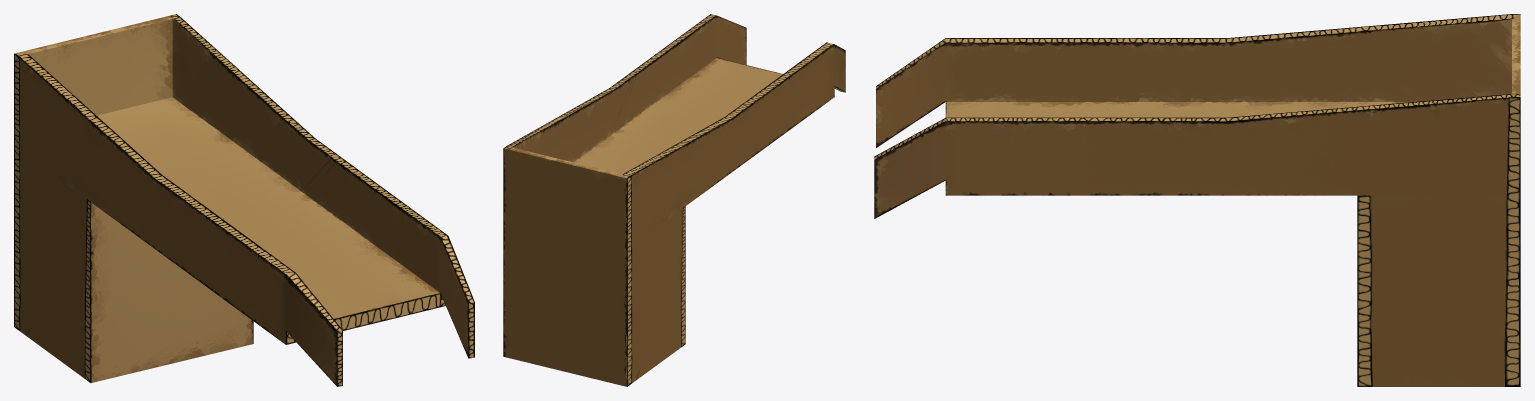
File: SM_Part6_Playtrack.fbx
The picture shows the model from 3 angles, left to right: view 1: azimuth 30°, elevation 25°; view 2: azimuth 150°, elevation 25°; view 3: azimuth 270°, elevation 25°; orthographic projection. The views are drawn at different scales.
Visible parts, largest first — view 1: Panel_6; view 2: Panel_6; view 3: Panel_6.
Part boxes in pixels (<box>): Panel_6: <box>14,14,474,386</box>; Panel_6: <box>503,14,845,386</box>; Panel_6: <box>874,14,1520,386</box>.
Size of the model in its own units: 2746 by 4417 by 8945.
